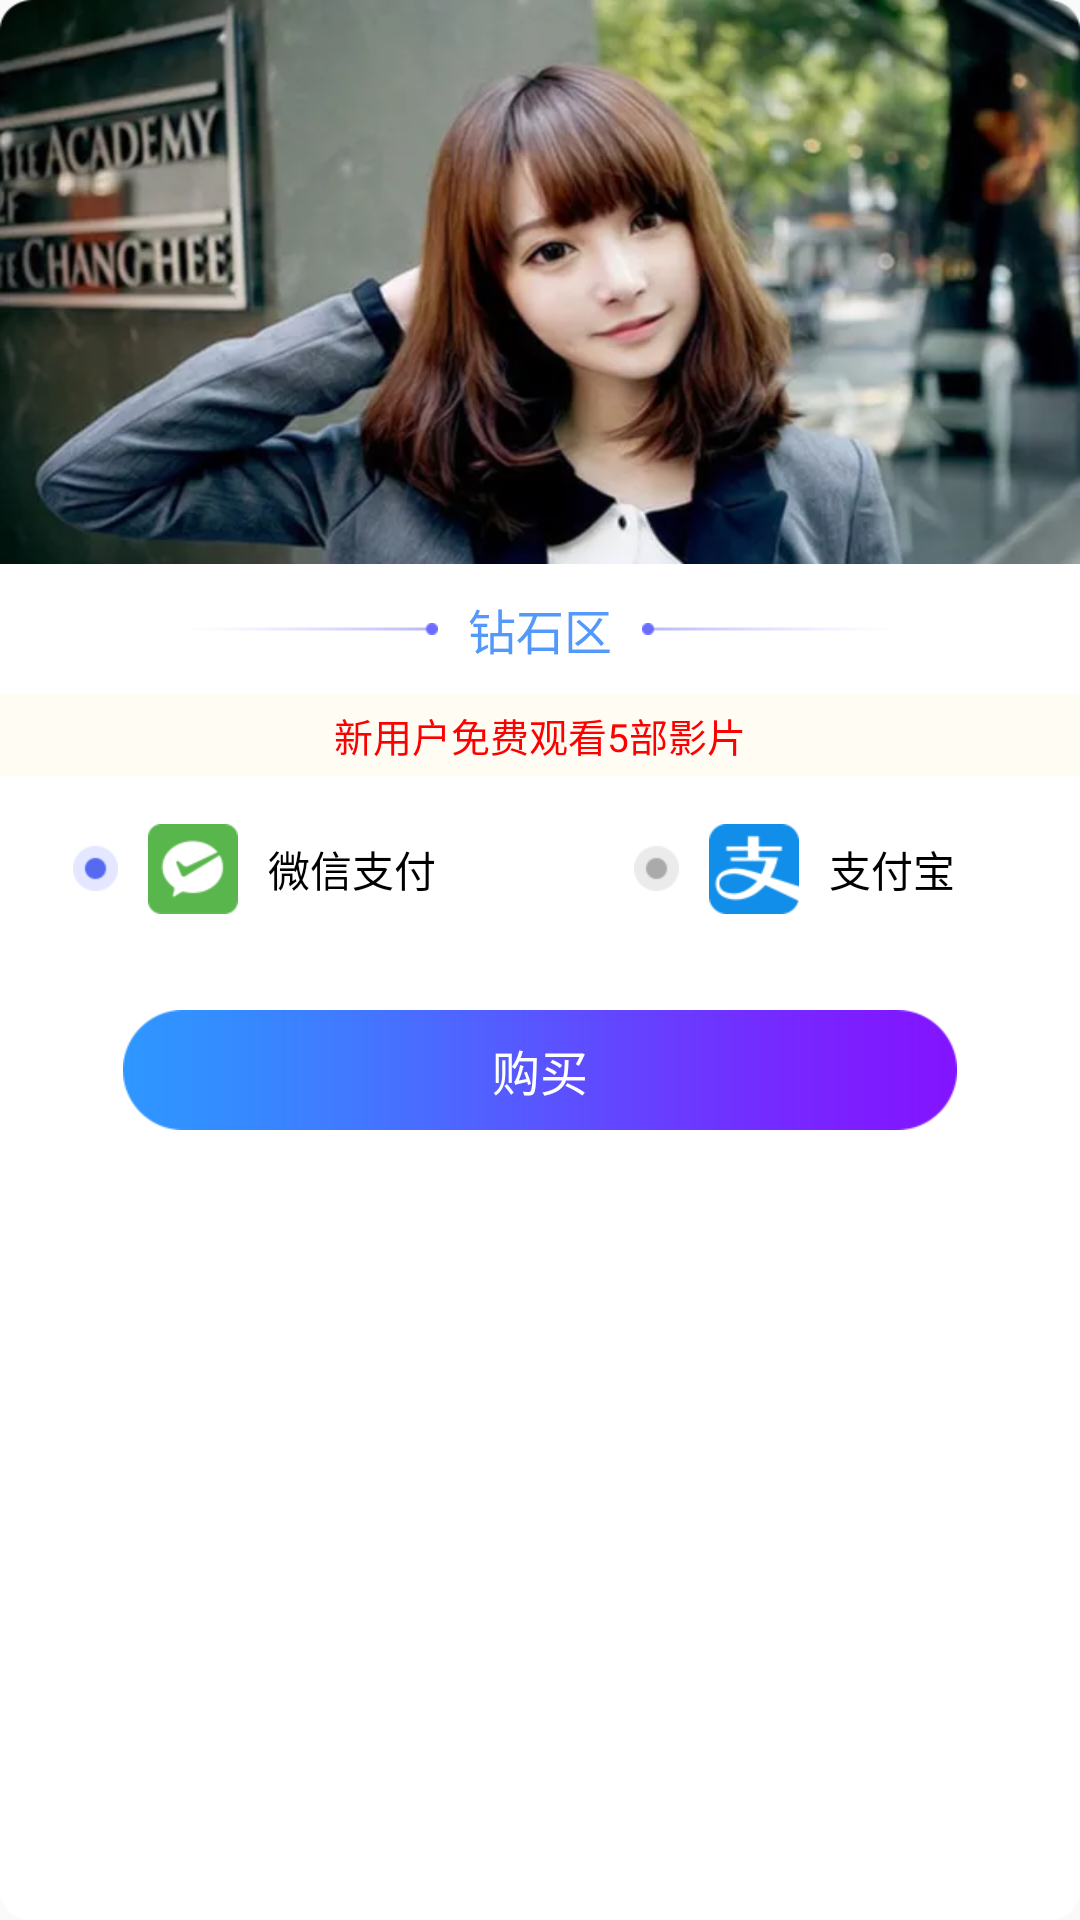

Screen size 1080 × 1920. Icon name, then its box in pixels as (x1, y1, x2, y2):
select true: (73, 846, 118, 891)
